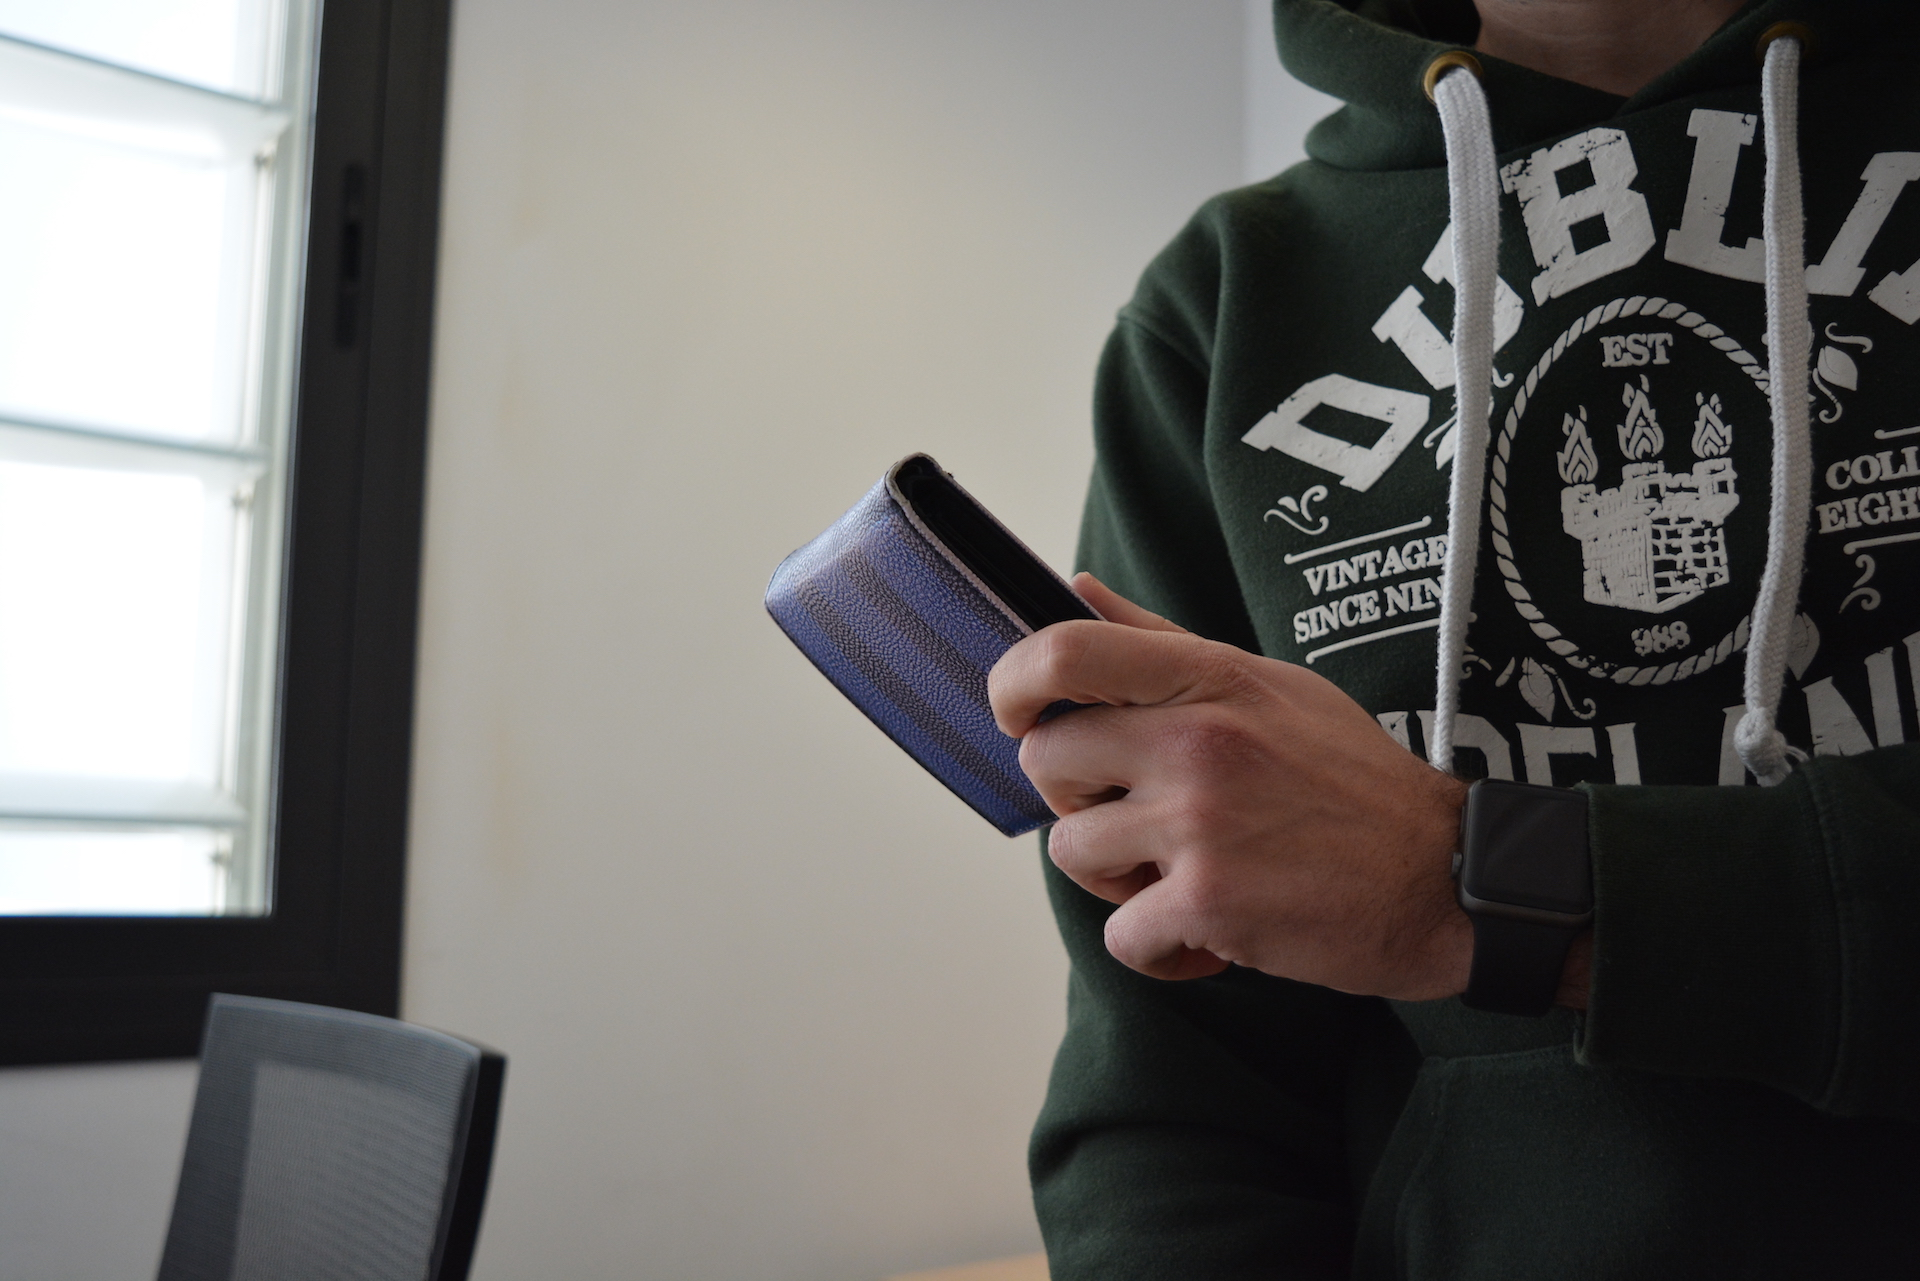monedero: (761, 450, 1135, 841)
